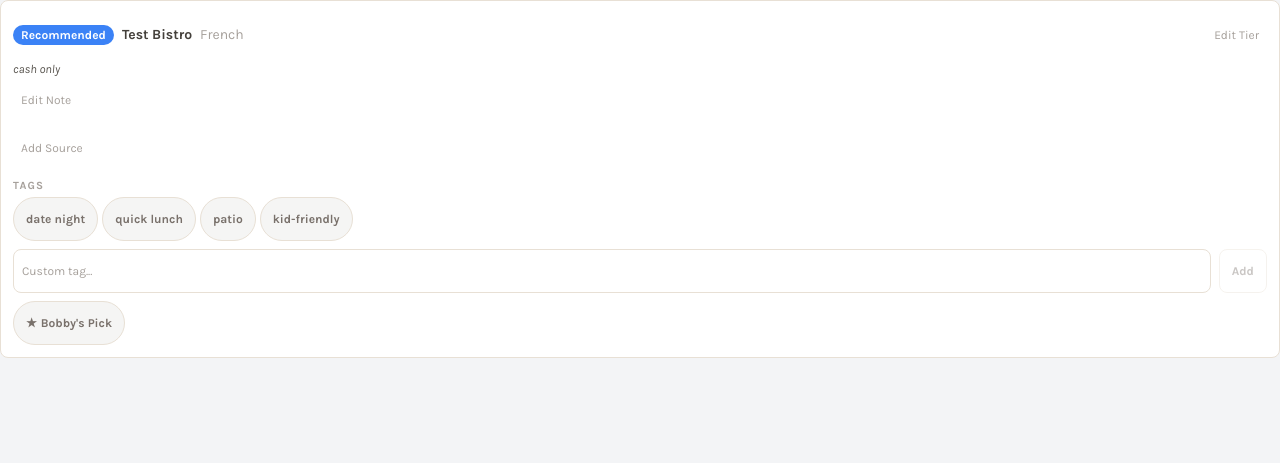
Test case: SessionRestaurantCard — Edit Note flow (AC 5, 6, 7) › clicking "Edit Note" opens textarea pre-populated with existing note and shows "Delete Note"
The width and height of the screenshot is (1280, 463).
Click the button with aria-label "edit note for test bistro": click(46, 100) top-left (13, 78), bottom-right (79, 122)
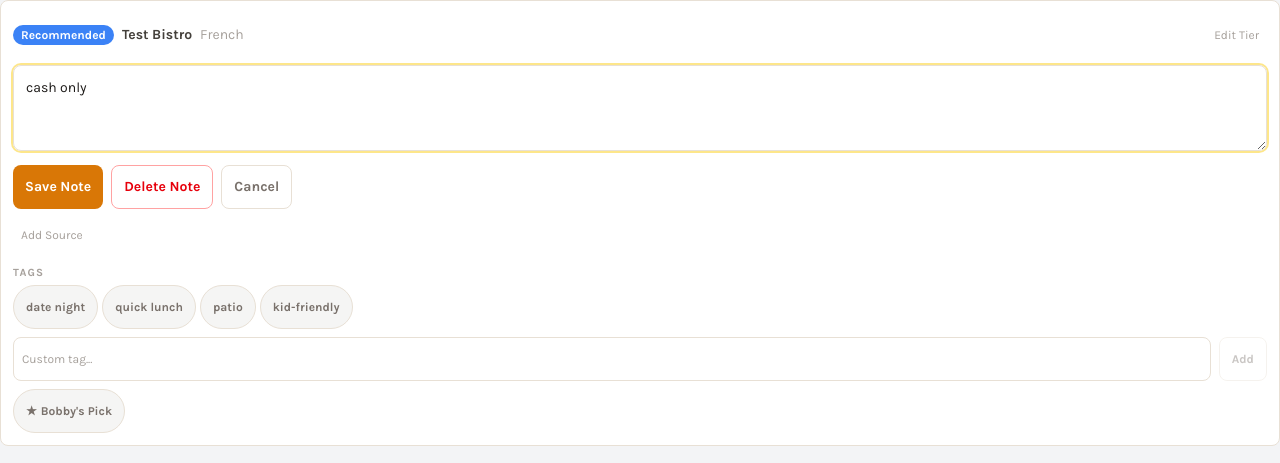
Check: the text box with test id "note-textarea" holds "cash only", box top-left (13, 65), bottom-right (1267, 151)
Check: the button with test id "delete-note-btn" is shown, box top-left (111, 165), bottom-right (213, 209)
Check: the button with test id "save-note-btn" is enabled, box top-left (13, 165), bottom-right (103, 209)
